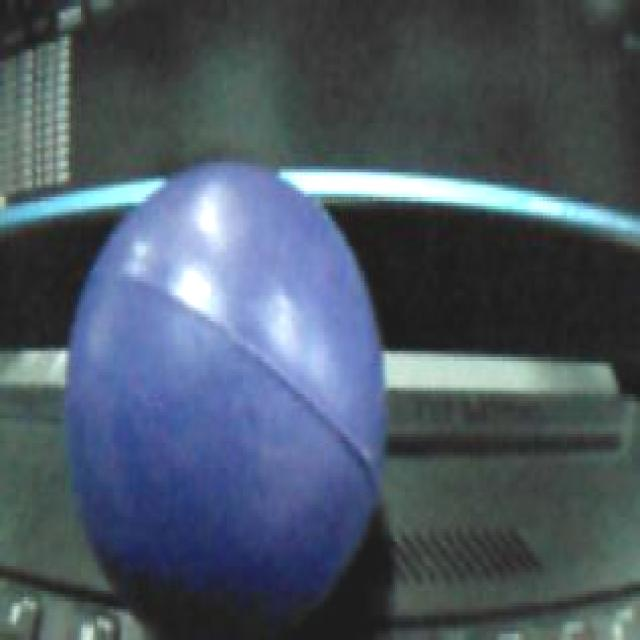BallPurple: (62, 160, 387, 637)
